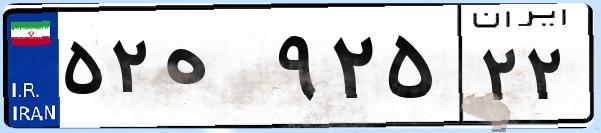2: (330, 28, 385, 110), (475, 38, 525, 113), (525, 38, 570, 115), (110, 28, 158, 98)
5: (385, 28, 445, 110), (57, 26, 110, 100)
9: (270, 28, 330, 110)
ه: (158, 20, 270, 120)
